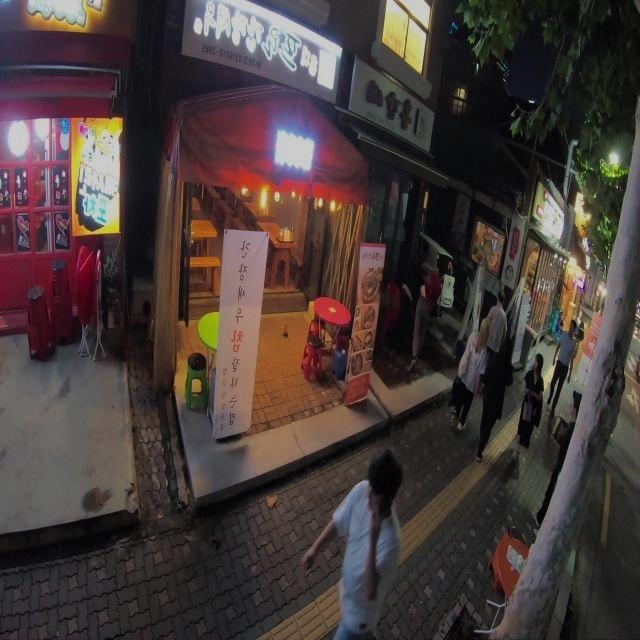non-fight: (297, 450, 397, 640), (476, 338, 512, 462), (512, 353, 544, 461), (408, 270, 442, 370), (547, 320, 577, 418), (484, 293, 508, 358)
